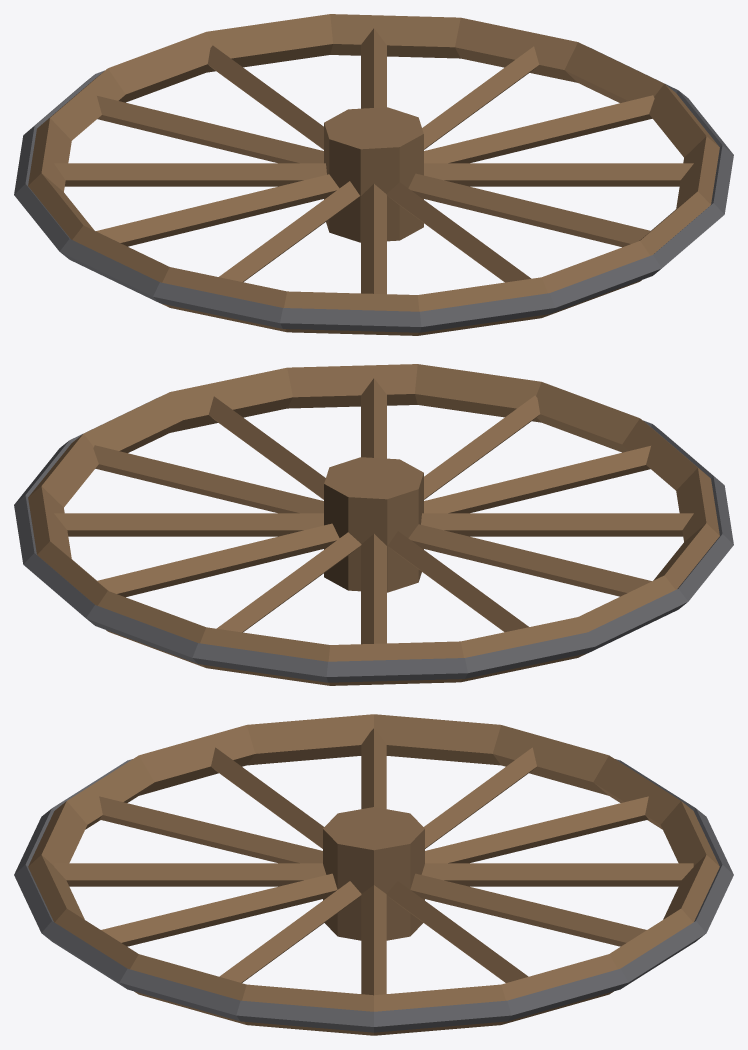
File: SM_Wagon_Wheel.glb
The picture shows the model from 3 angles, top to bottom: view 1: azimuth 30°, elevation 25°; view 2: azimuth 150°, elevation 25°; view 3: azimuth 270°, elevation 25°; orthographic projection.
Visible parts, largest first — view 1: SM_Wagon_Wheel; view 2: SM_Wagon_Wheel; view 3: SM_Wagon_Wheel.
Boxes of the visible parts, left/top/right/bottom form: SM_Wagon_Wheel: left=14, top=14, right=733, bottom=335; SM_Wagon_Wheel: left=14, top=364, right=733, bottom=685; SM_Wagon_Wheel: left=14, top=714, right=733, bottom=1035.
Bounding box in the file's own units: 1.13 × 0.16 × 1.13.
